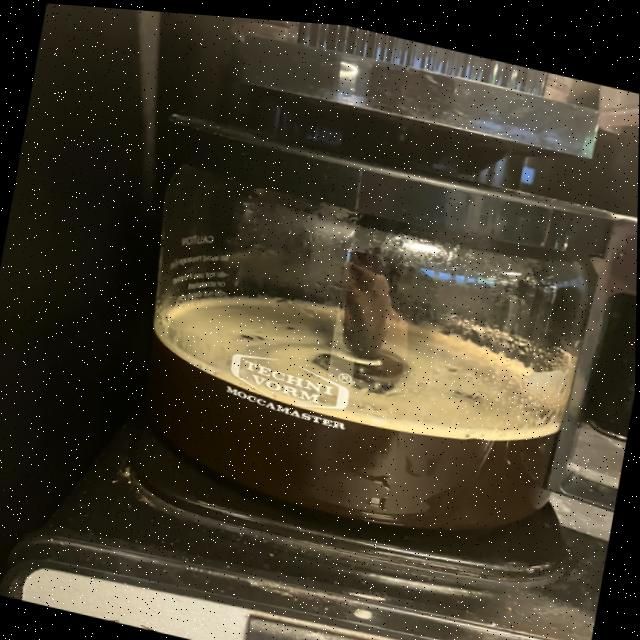coffee: (59, 67, 639, 603)
